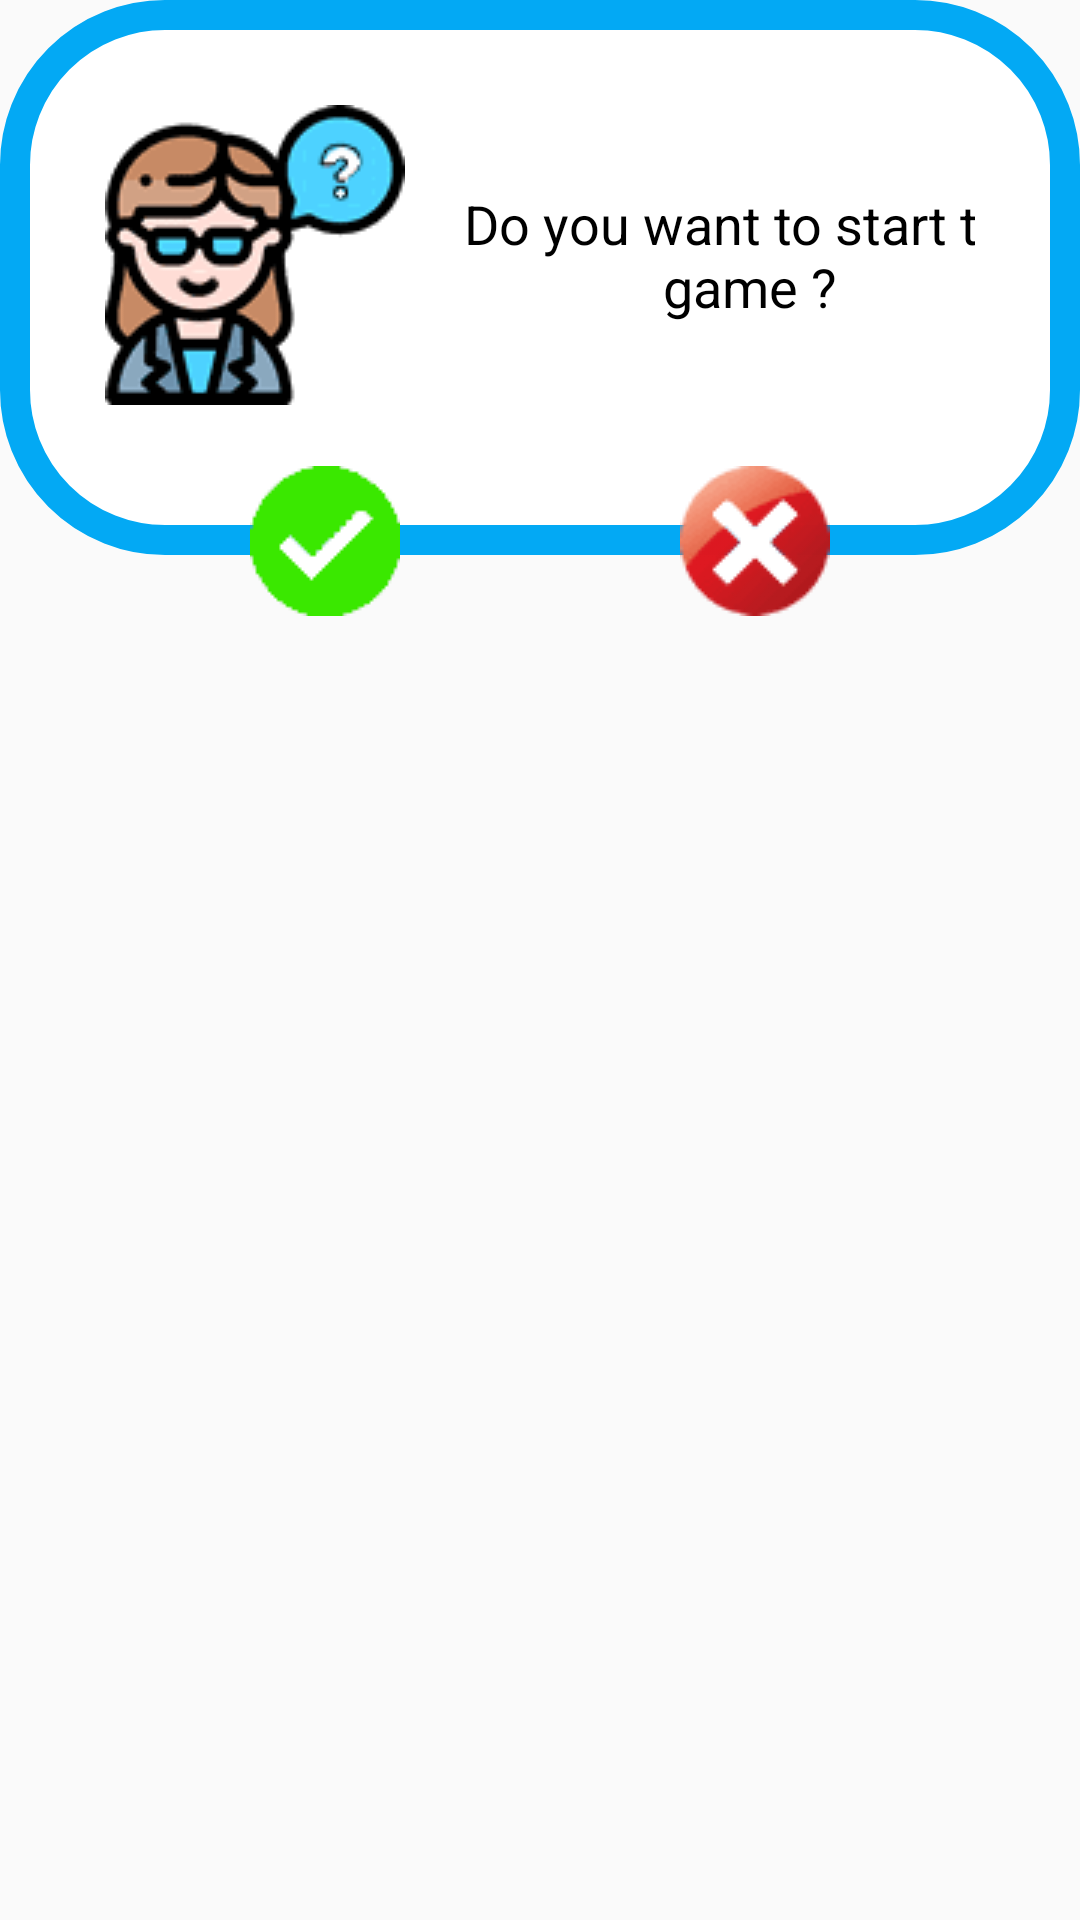

Screen size 1080px x 1920px. Icon name, then its center in pixels as [x,y]:
question: [255,255]
